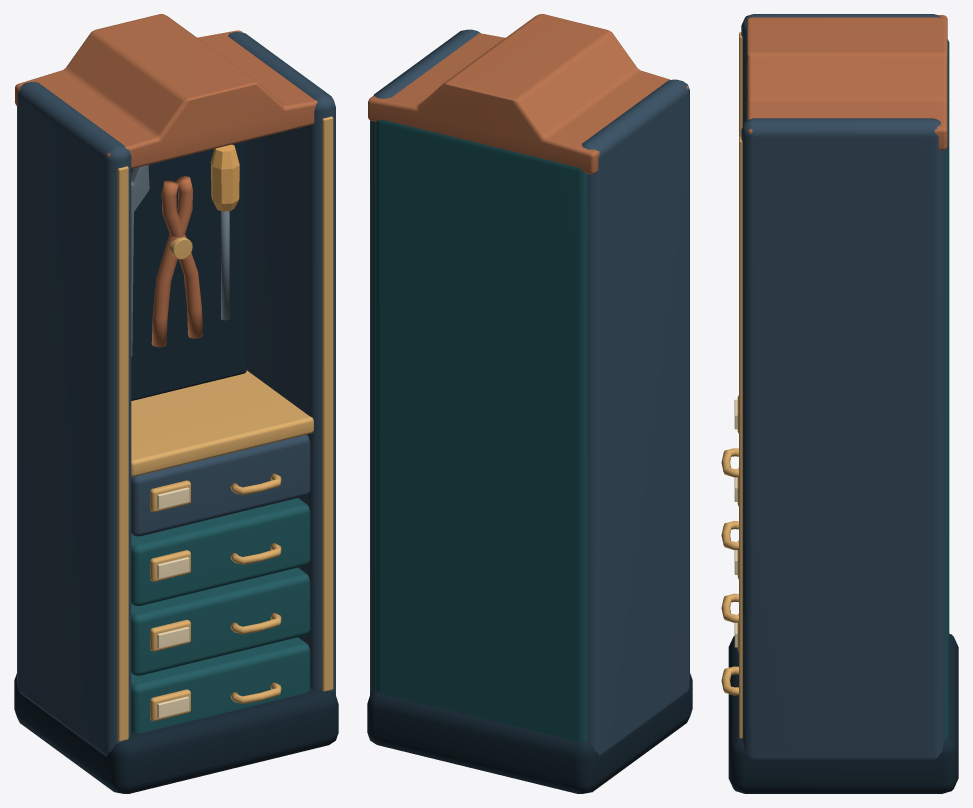
3 renders of one model, left to right at view 1: azimuth 30°, elevation 25°; view 2: azimuth 150°, elevation 25°; view 3: azimuth 270°, elevation 25°, orthographic. The views are drawn at different scales.
Parts seen in each view (by area): view 1: PR013 workshop assembly; view 2: PR013 workshop assembly; view 3: PR013 workshop assembly.
Part boxes in pixels (x1=…): PR013 workshop assembly: x1=14, y1=14, x2=338, y2=793; PR013 workshop assembly: x1=367, y1=14, x2=692, y2=793; PR013 workshop assembly: x1=721, y1=14, x2=958, y2=793.
Size of the model in its own units: 0.761 by 2.14 by 0.6499.
